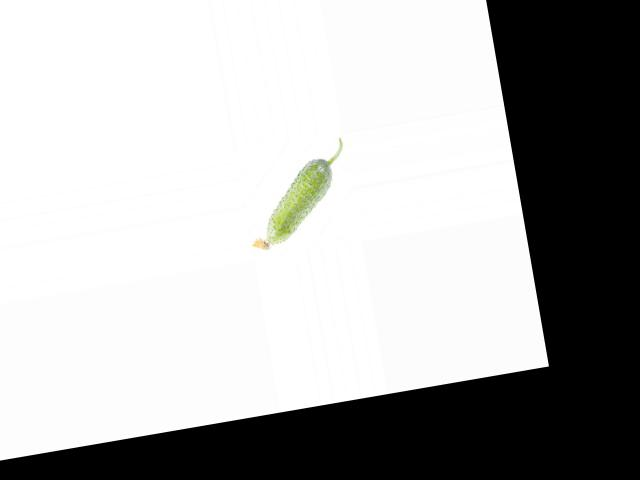cucumber: (235, 137, 357, 252)
